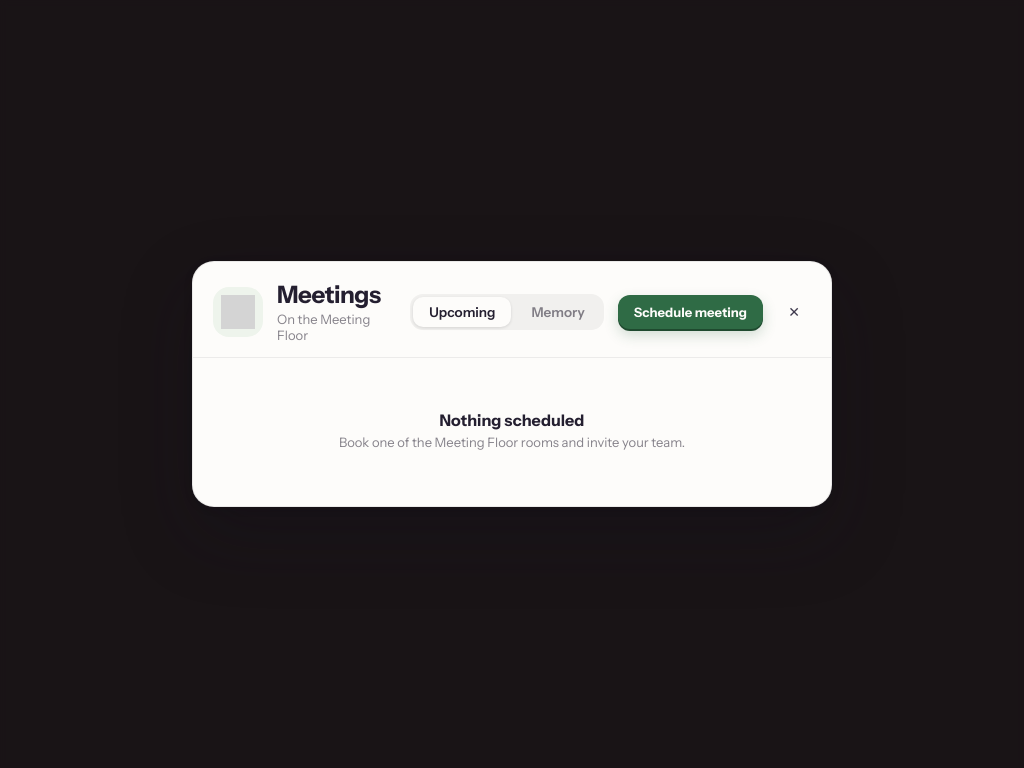
it: MeetingMemory › lists memories with attended vs shared, effective preview, stale and no-receipt states
Click the tab "Memory" at {"x": 558, "y": 312}, box [516,296,601,326]
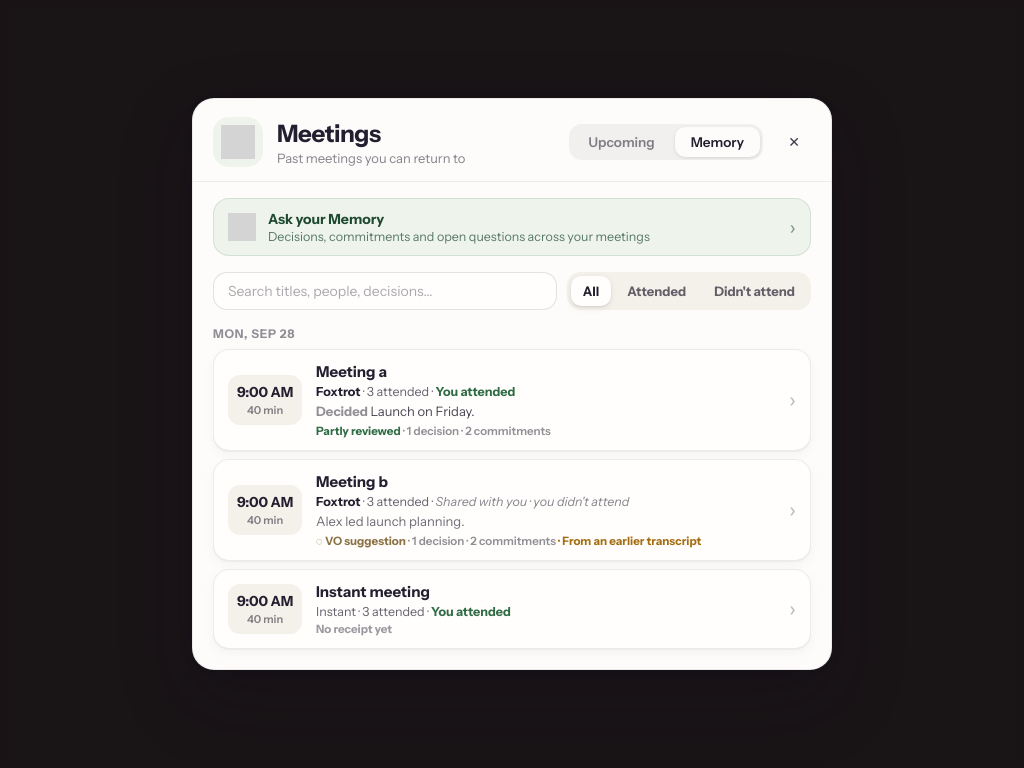
Now the number of buttons with test id "memory-row" is 3, box [213,349,811,450]; [213,458,811,561]; [213,569,811,649]
Now the 1st text with test id "memory-relation" reads "You attended", box [436,384,516,399]
Now the element with test id "memory-preview" reads "Decided Launch on Friday.", box [316,403,475,419]
